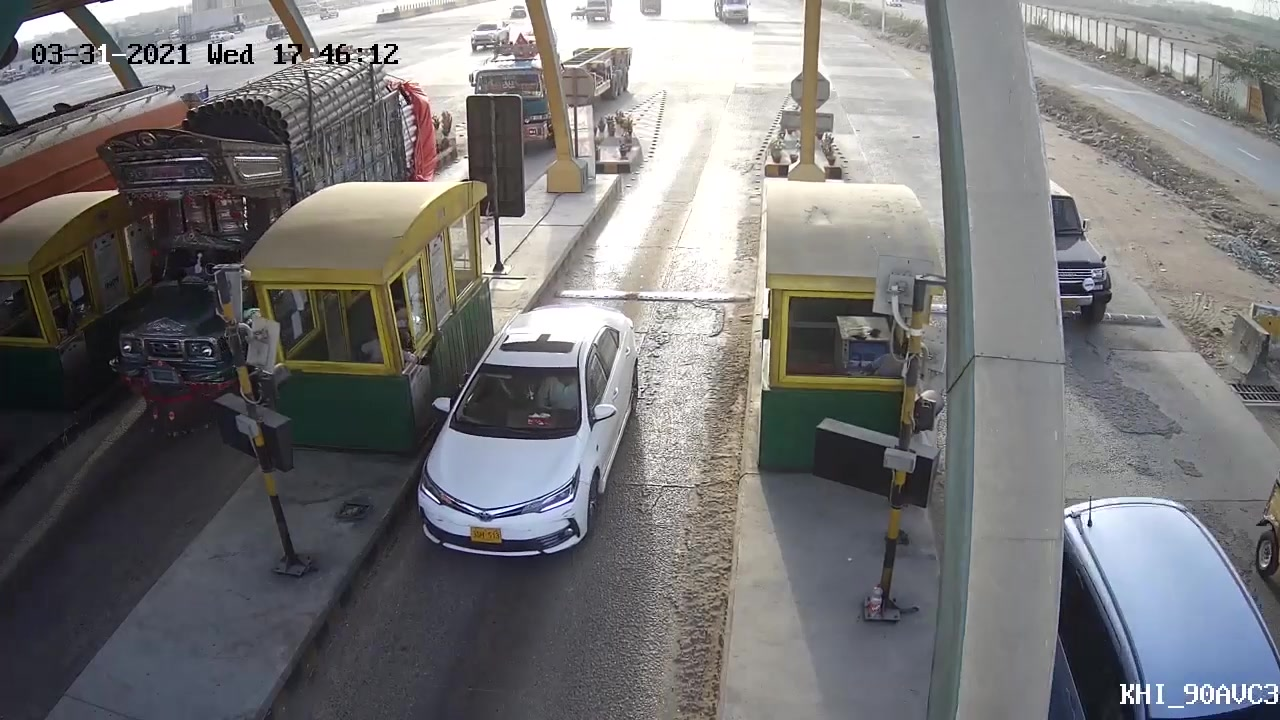F1: (414, 290, 644, 612)
